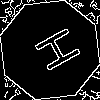H: (25, 25, 82, 79)
